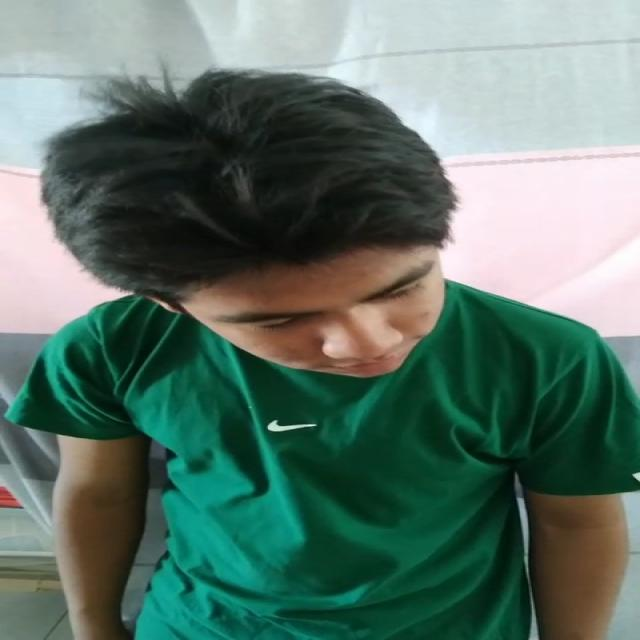9_cabeza_baja: (42, 70, 458, 378)
